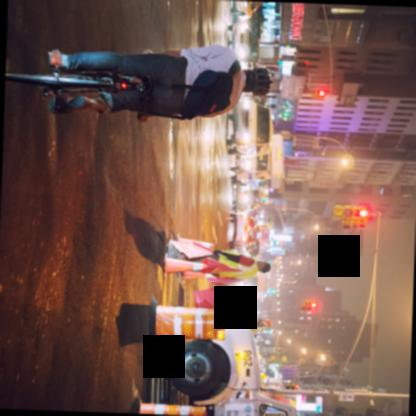backpack: (177, 68, 233, 124)
